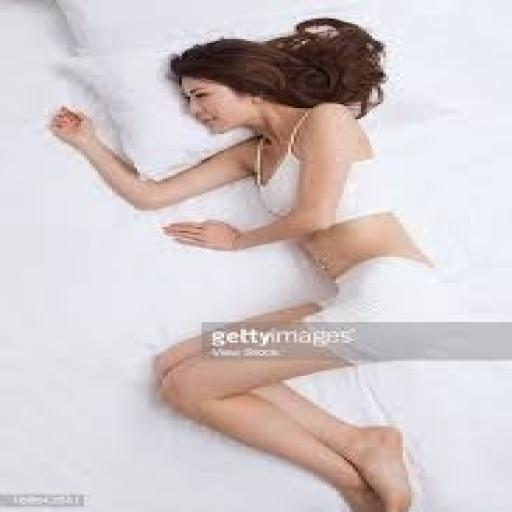sleeping: (45, 15, 442, 510)
